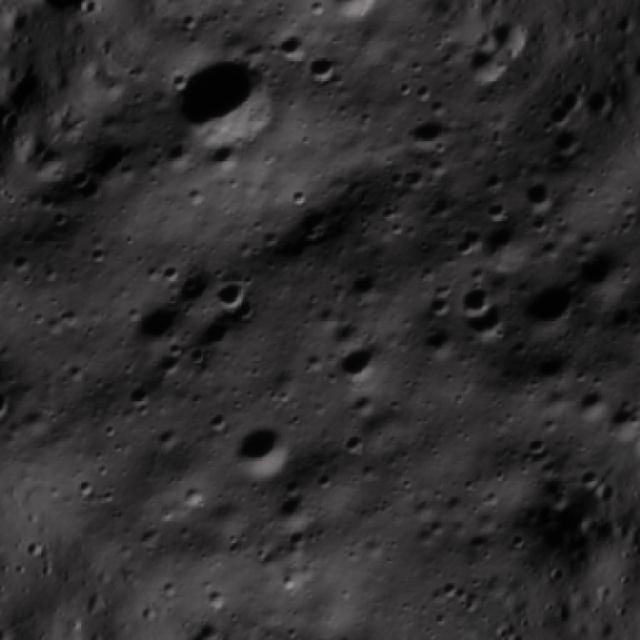crater: (143, 20, 300, 178), (221, 405, 308, 492), (557, 226, 637, 306), (125, 283, 203, 363), (515, 265, 593, 343), (325, 325, 400, 401), (520, 329, 591, 400), (398, 96, 468, 164), (450, 34, 516, 97), (445, 271, 504, 329), (267, 482, 325, 541), (466, 295, 522, 354), (200, 129, 257, 185), (539, 114, 595, 169), (205, 267, 261, 322), (192, 308, 246, 362), (300, 42, 351, 95), (563, 376, 614, 427), (512, 170, 563, 221), (270, 20, 319, 72), (597, 389, 640, 445), (468, 184, 515, 231), (333, 425, 379, 472), (446, 218, 492, 262), (0, 374, 31, 438), (423, 182, 468, 226), (396, 158, 439, 200), (326, 0, 388, 28), (570, 458, 607, 496), (476, 159, 512, 196), (282, 178, 316, 212), (637, 184, 640, 233)
